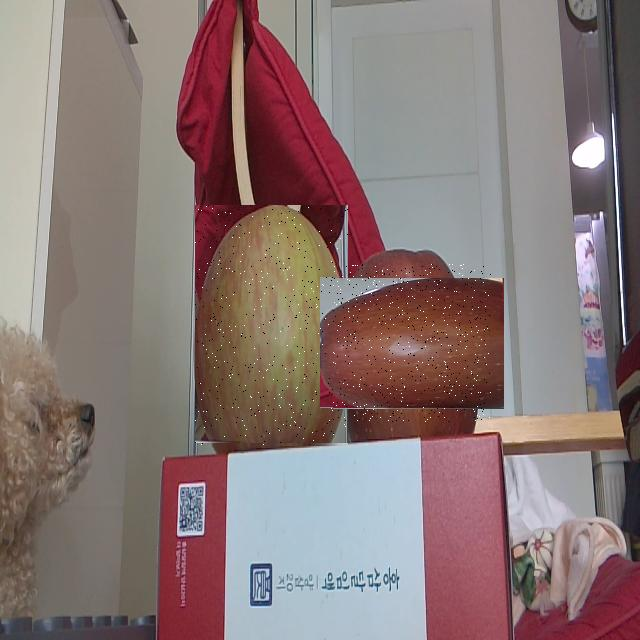apple: (195, 205, 348, 446), (333, 264, 491, 422)
